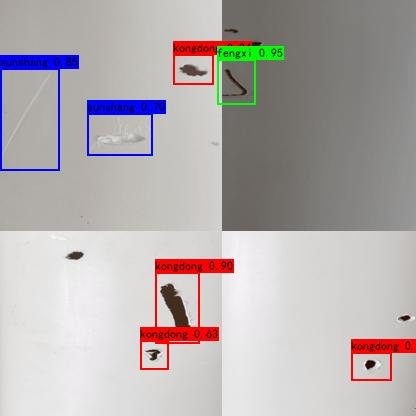fengxi: (154, 280, 197, 338), (221, 65, 253, 101)
kongdong: (177, 62, 208, 79), (64, 247, 84, 265), (361, 355, 381, 373), (144, 347, 164, 363), (397, 311, 415, 328), (245, 40, 268, 51), (222, 27, 239, 37)
sunshang: (1, 73, 56, 154), (93, 130, 150, 145)
